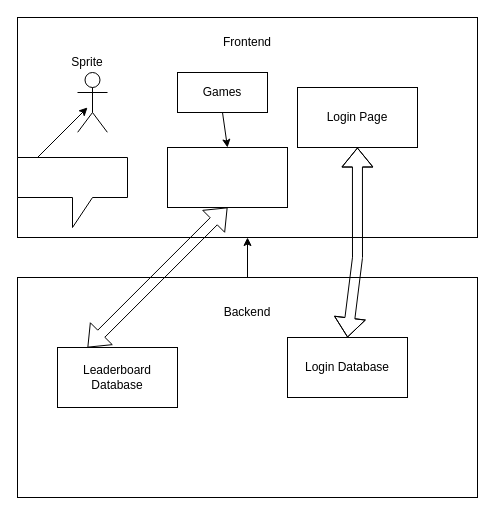
Some shapes in this 495 by 515 pixel diagram are drawn without their labels. The shapes that lost their labels are listed below. From the top down, each one's centre as x and y in pixels, then its label:
At point 72,192: "User inputs".
At point 227,177: "Leaderboard".
